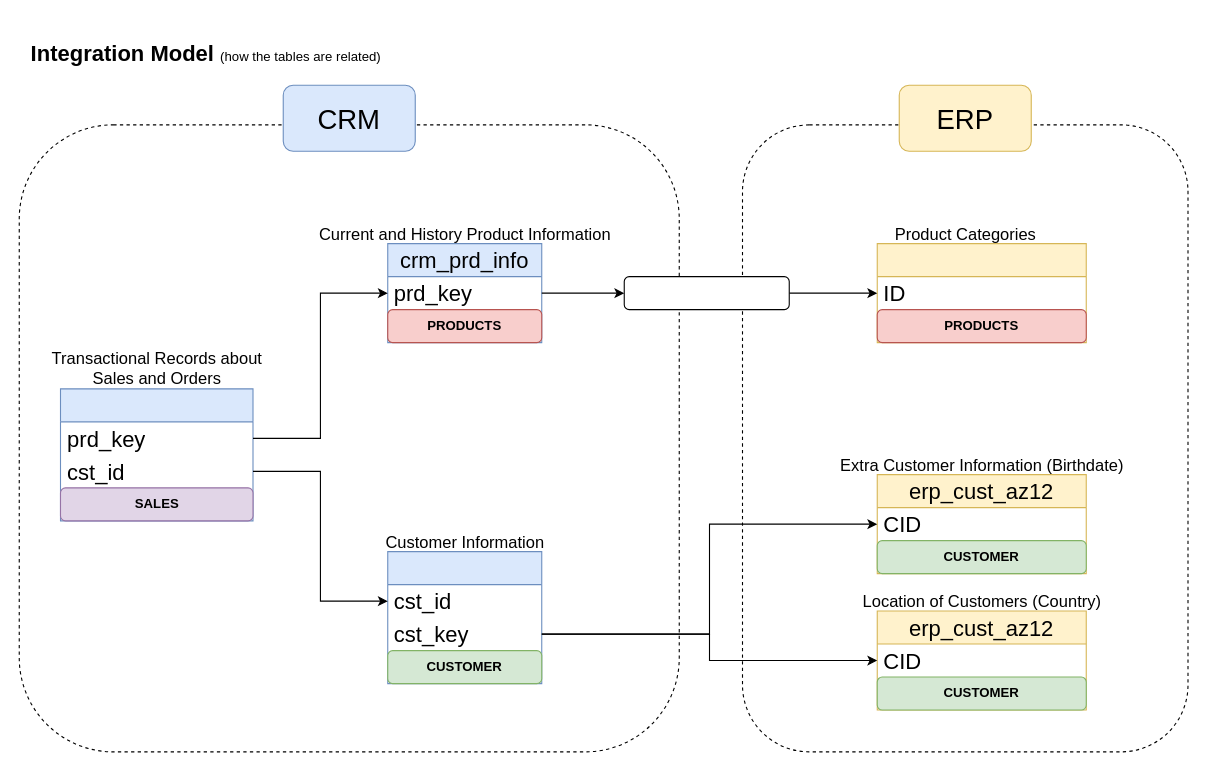
The diagram is 1208 pixels wide and 771 high, and some of its shapes have lost their labels. Here are the shapes that lost their labels. From the top down, the box of each, then its label:
(623, 276, 789, 310): prd_key = ID[:5]
(876, 243, 1086, 343): erp_px_cat_g1v2
(59, 388, 253, 521): crm_sales_details
(387, 551, 542, 684): crm_cust_info
